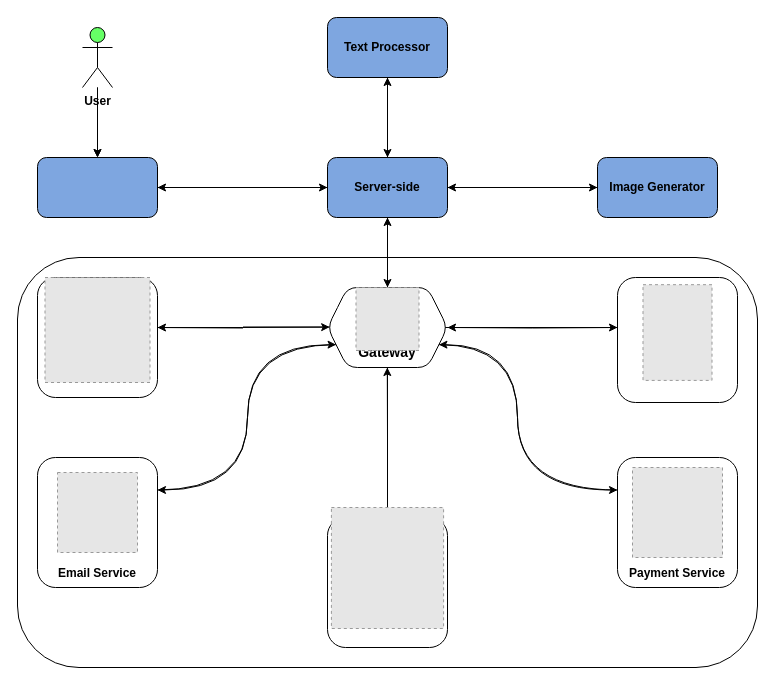
The diagram is 775 pixels wide and 685 high, and some of its shapes have lost their labels. Grey dashed boxes stand in for pictures. The box of each missing label's shape, as (x1, y1, x2, y2) in pixels:
Clint-side: (36, 156, 158, 218)
Database: (616, 276, 738, 402)
PDF Conversion: (36, 276, 158, 398)
User Authentication: (326, 516, 448, 648)
